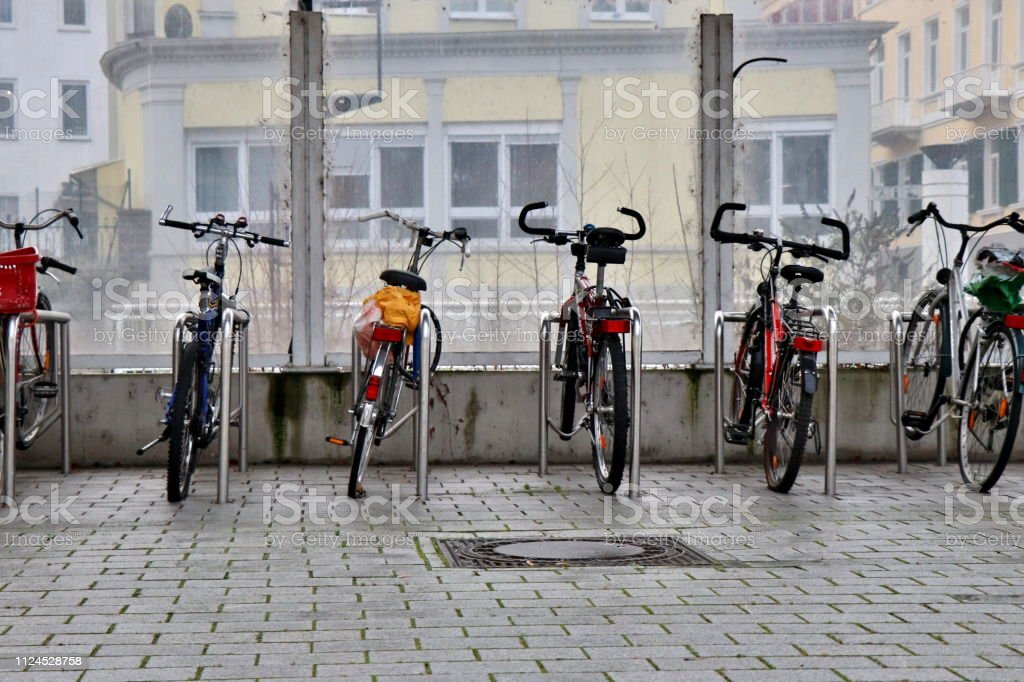bike: (505, 191, 665, 516), (704, 191, 862, 492), (145, 188, 290, 512), (337, 195, 475, 513), (906, 196, 1024, 523)
